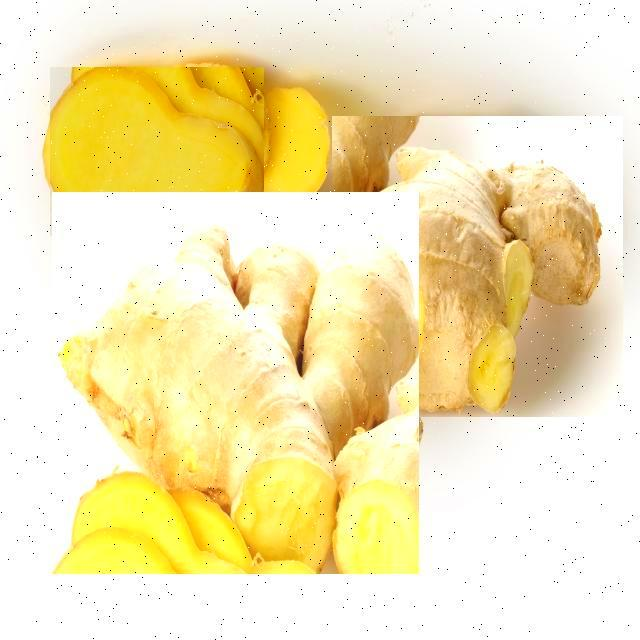ginger: (52, 192, 419, 574), (332, 116, 623, 417), (50, 67, 264, 236)
